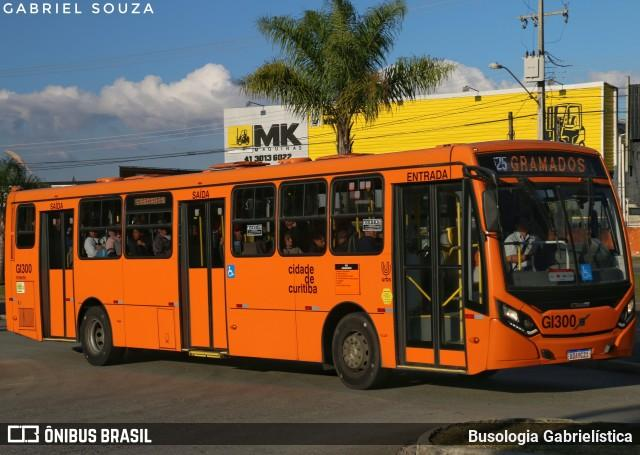GRAMADOS: (507, 152, 590, 177)
